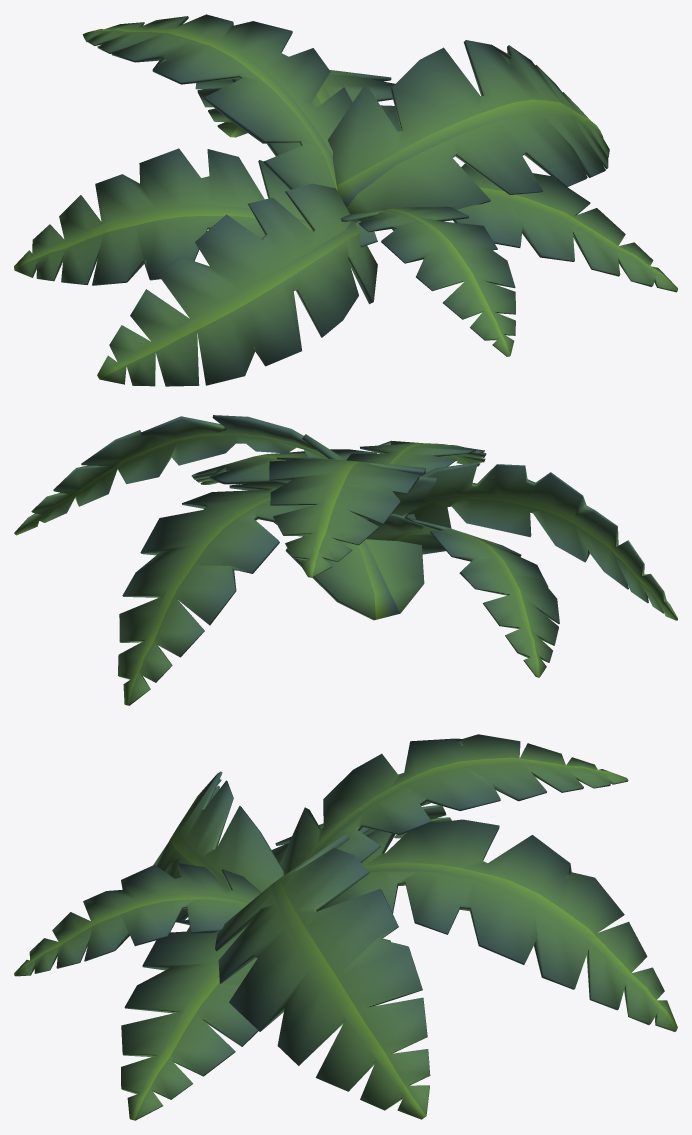
Rendered from Big_Leaves_01.fbx.
The picture shows the model from 3 angles, top to bottom: view 1: azimuth 30°, elevation 25°; view 2: azimuth 150°, elevation 25°; view 3: azimuth 270°, elevation 25°; orthographic projection. The views are drawn at different scales.
Visible parts, largest first — view 1: Big_Leaves_01; view 2: Big_Leaves_01; view 3: Big_Leaves_01.
Part boxes in pixels (x1,y1,x2,y2): Big_Leaves_01: [14, 14, 677, 386]; Big_Leaves_01: [14, 415, 677, 705]; Big_Leaves_01: [14, 734, 677, 1120].
Size of the model in its own units: 265 by 84.62 by 246.
